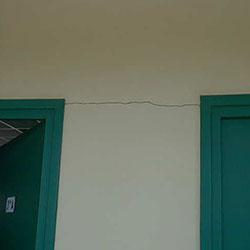crack: (65, 101, 199, 107)
